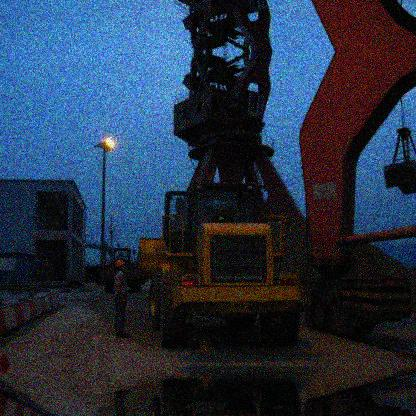helmet: (114, 260, 127, 272)
